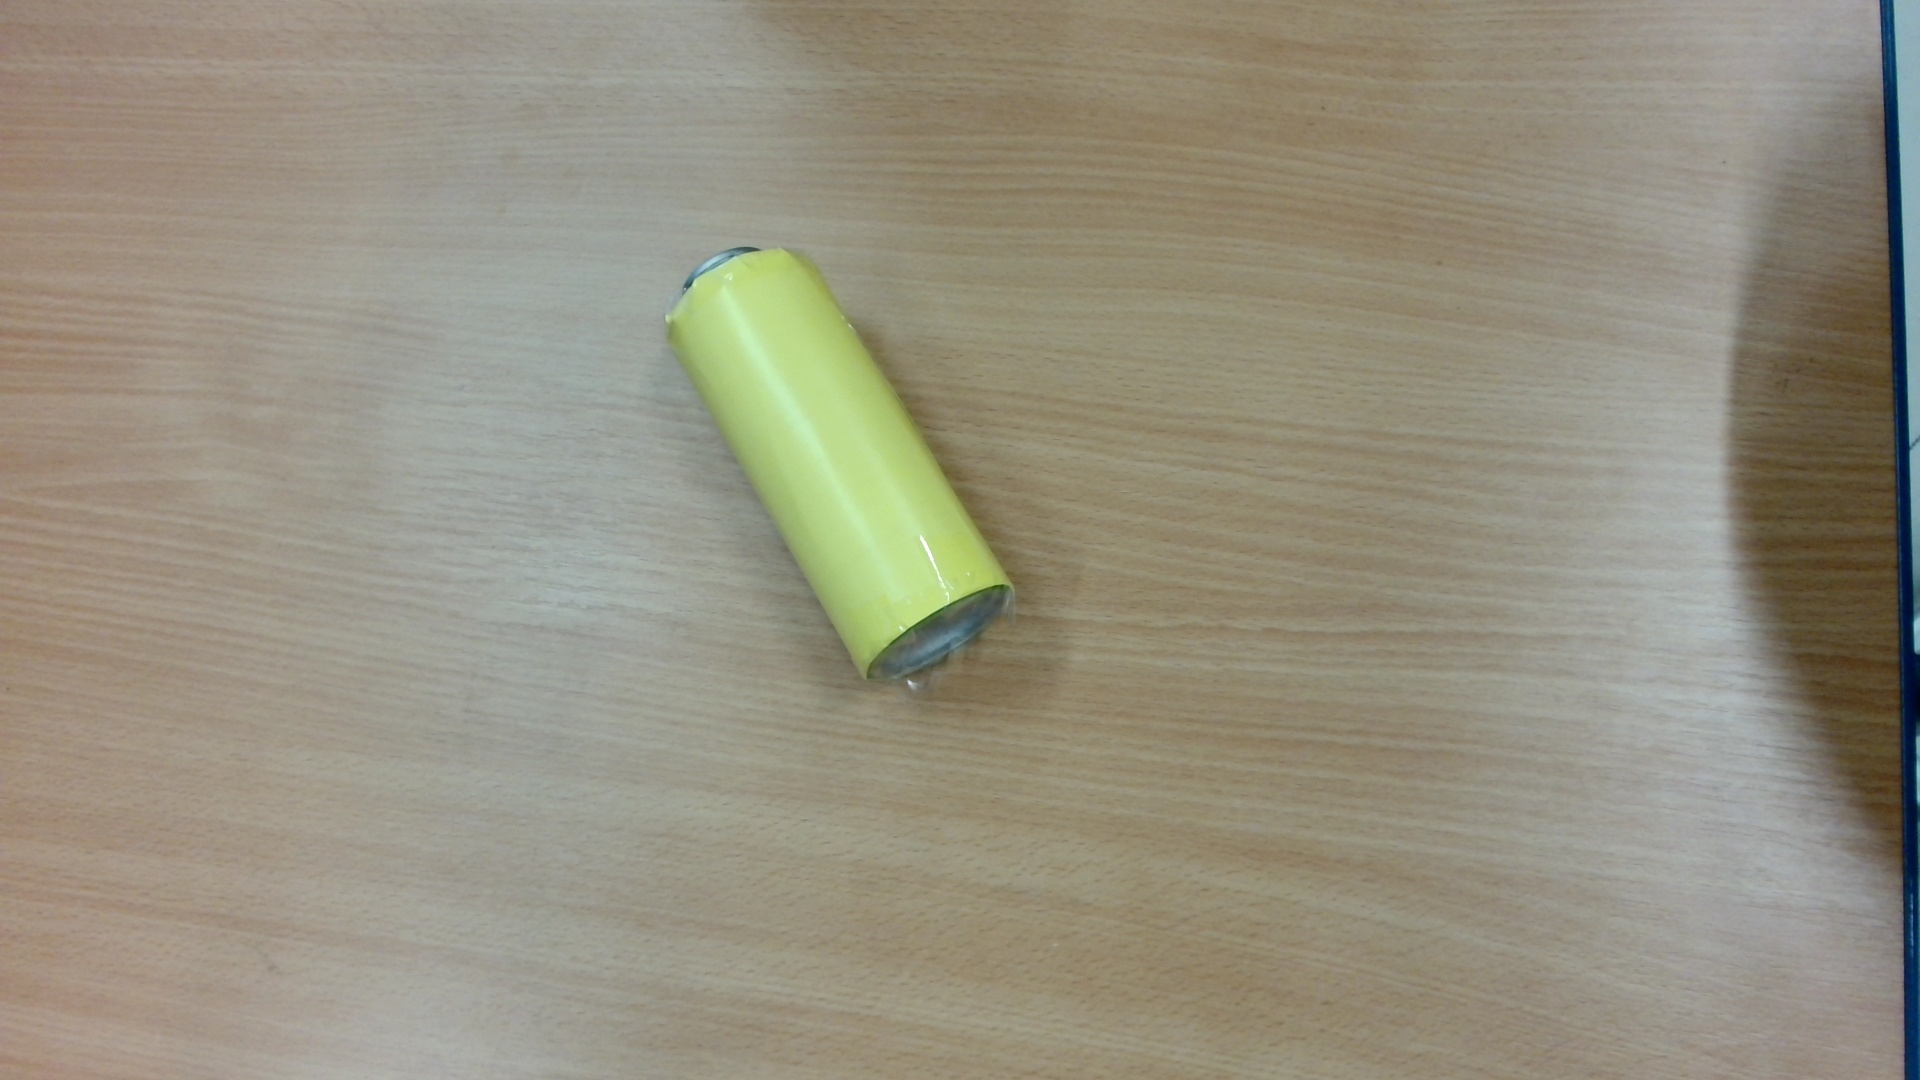Cylinder: (661, 228, 1027, 705)
